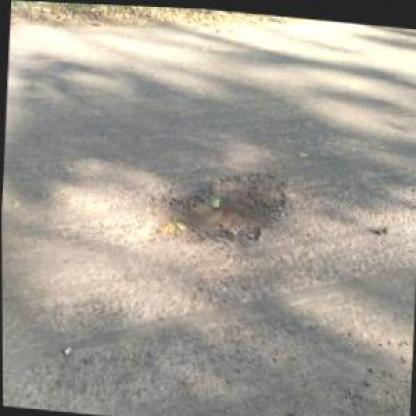pothole: (144, 158, 293, 252)
